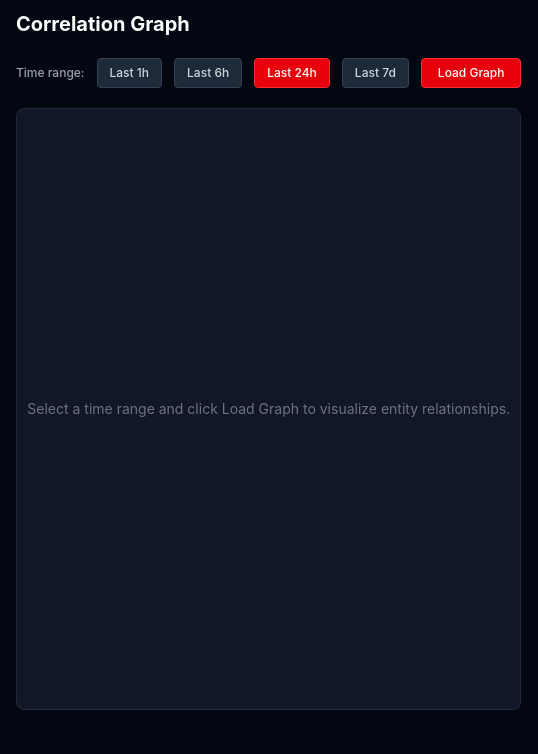
CorrelationPage › error handling › shows a generic error for non-ApiClientError rejections
Click the button "Load Graph" at (471, 73), box x1=421 y1=58 x2=522 y2=88
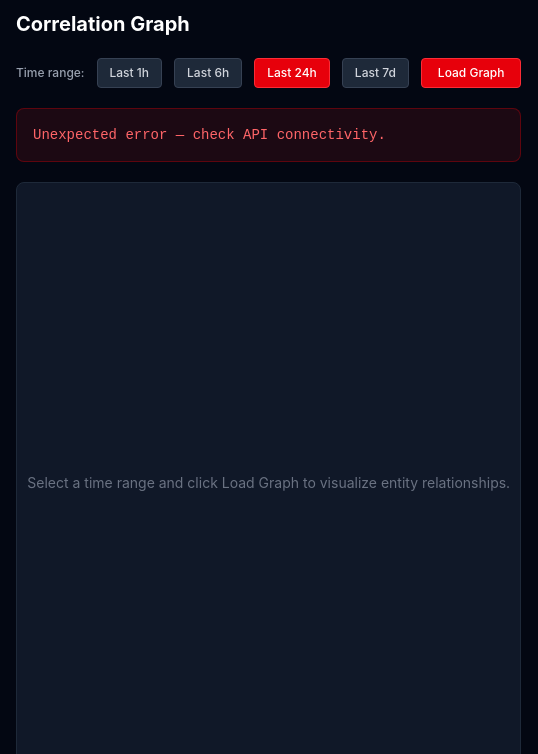
Check: the text "Unexpected error — check API connectivity." is shown, box x1=16 y1=108 x2=522 y2=162
